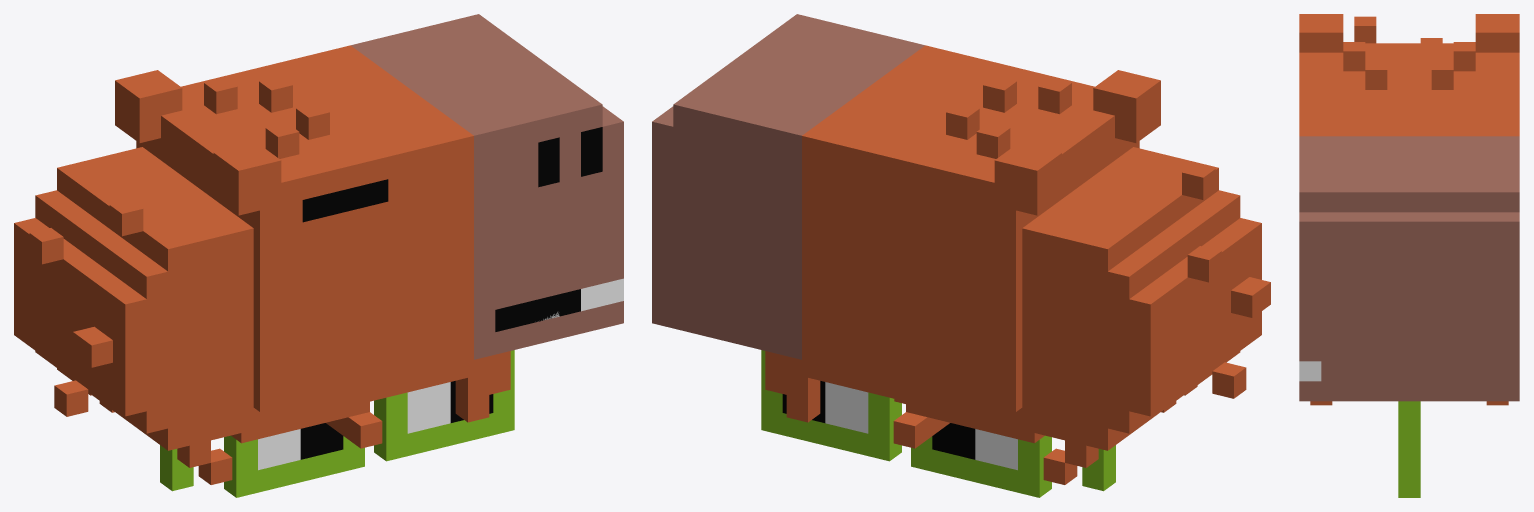
Rendered from capybara.glb.
The picture shows the model from 3 angles, left to right: view 1: azimuth 30°, elevation 25°; view 2: azimuth 150°, elevation 25°; view 3: azimuth 270°, elevation 25°; orthographic projection. The views are drawn at different scales.
Visible parts, largest first — view 1: base, body, glasses, layer-2, mouth, eyes, nose, a1; view 2: base, body, glasses, layer-2, a1; view 3: base, glasses, body, mouth.
Boxes of the visible parts, <box> form: base: <box>20,14,623,445</box>; body: <box>14,147,510,484</box>; glasses: <box>160,350,514,497</box>; layer-2: <box>258,381,493,470</box>; mouth: <box>495,278,623,331</box>; eyes: <box>302,179,388,222</box>; nose: <box>538,127,602,187</box>; a1: <box>326,412,382,448</box>; base: <box>652,14,1264,442</box>; body: <box>765,147,1270,484</box>; glasses: <box>761,350,1115,497</box>; layer-2: <box>782,381,1017,470</box>; a1: <box>893,412,949,448</box>; base: <box>1299,14,1519,401</box>; glasses: <box>1398,401,1420,497</box>; body: <box>1310,16,1508,405</box>; mouth: <box>1299,361,1321,381</box>.
Bounding box in the file's own units: 24 × 17 × 10.
10 materials, 10 textured.
